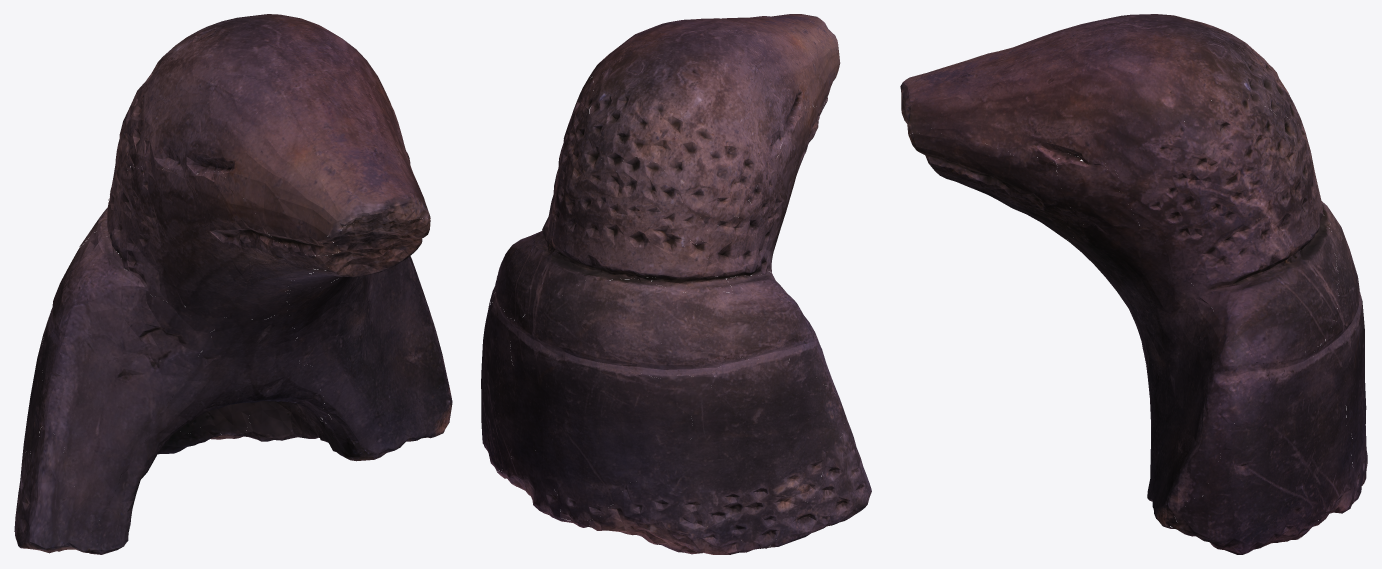
File: Objeto_05_4k-b.glb
3 renders of one model, left to right at view 1: azimuth 30°, elevation 25°; view 2: azimuth 150°, elevation 25°; view 3: azimuth 270°, elevation 25°, orthographic. The views are drawn at different scales.
Parts seen in each view (by area): view 1: Mesh_0; view 2: Mesh_0; view 3: Mesh_0.
Boxes of the visible parts, x1,y1,x2,y2 form: Mesh_0: (14, 14, 452, 554); Mesh_0: (481, 14, 871, 554); Mesh_0: (900, 14, 1367, 554).
Size of the model in its own units: 0.0637 by 0.0738 by 0.0645.
Materials: 1 (1 with a texture image).
